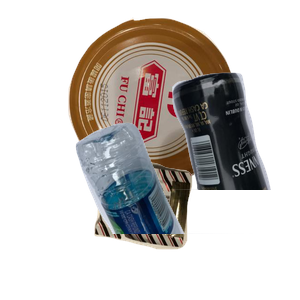glass: (106, 70, 300, 250)
metal: (66, 15, 297, 193)
plastic: (73, 120, 300, 300)
trash: (92, 158, 277, 300)
